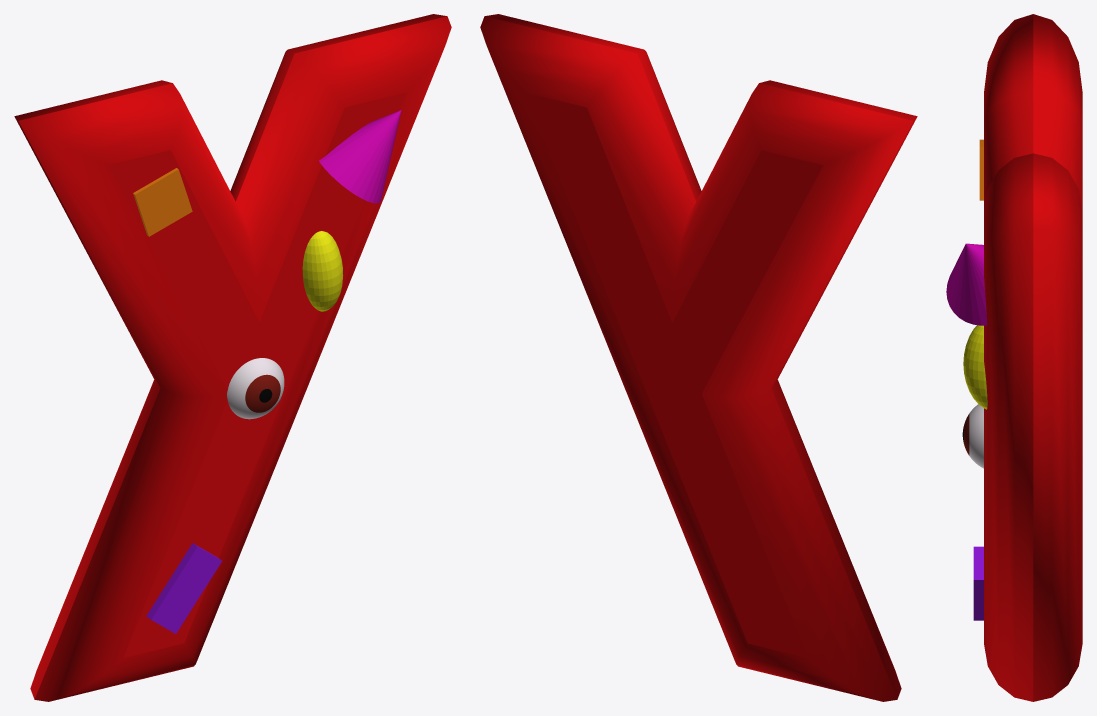
Rendered from y_red.fbx.
3 renders of one model, left to right at view 1: azimuth 30°, elevation 25°; view 2: azimuth 150°, elevation 25°; view 3: azimuth 270°, elevation 25°, orthographic. The views are drawn at different scales.
Parts seen in each view (by area): view 1: Text, Cone, Cube.001, Sphere, Sphere.002, Cube; view 2: Text; view 3: Text, Cone, Sphere.002, Sphere, Cube.001, Cube.
Part boxes in pixels (bbox=[...]): Text: bbox=[14, 14, 451, 701]; Cone: bbox=[319, 110, 401, 203]; Cube.001: bbox=[146, 543, 221, 633]; Sphere: bbox=[227, 358, 284, 419]; Sphere.002: bbox=[302, 231, 343, 311]; Cube: bbox=[133, 168, 192, 236]; Text: bbox=[480, 14, 917, 701]; Text: bbox=[984, 14, 1082, 701]; Cone: bbox=[946, 243, 987, 325]; Sphere.002: bbox=[963, 325, 987, 409]; Sphere: bbox=[962, 404, 983, 468]; Cube.001: bbox=[973, 546, 983, 620]; Cube: bbox=[979, 139, 983, 200].
Size of the model in its own units: 60.34 by 78.3 by 16.03.
